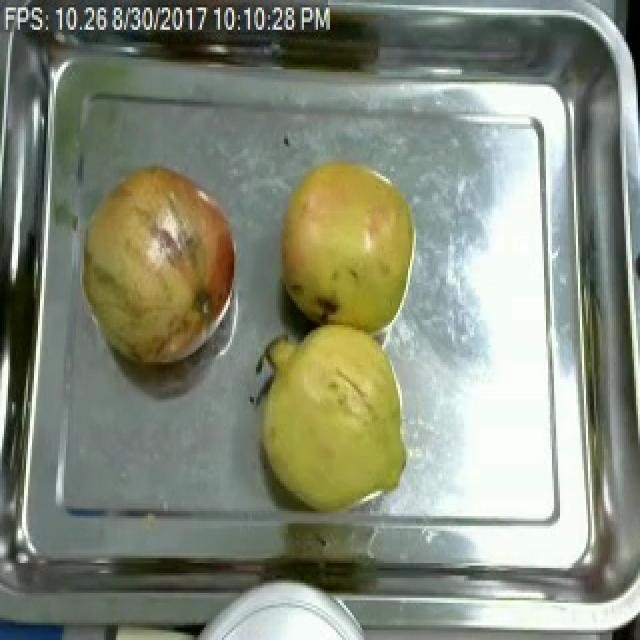fruit: (240, 312, 418, 524), (76, 153, 246, 374), (272, 149, 424, 342)
